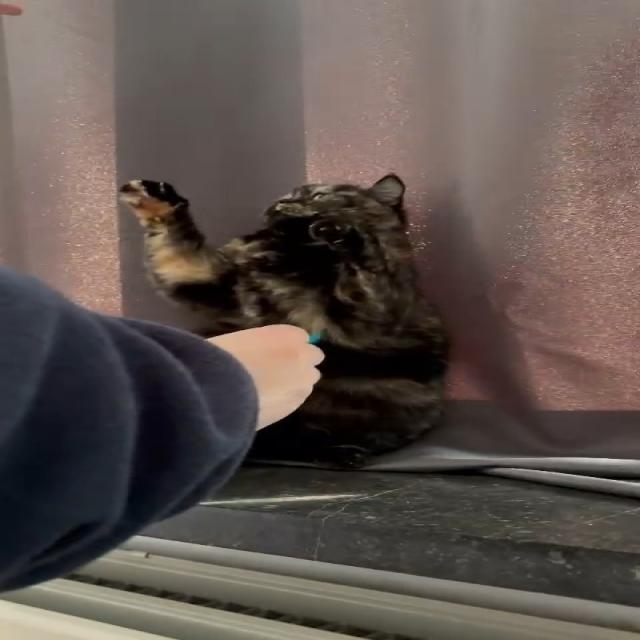authorized: (118, 172, 454, 470)
